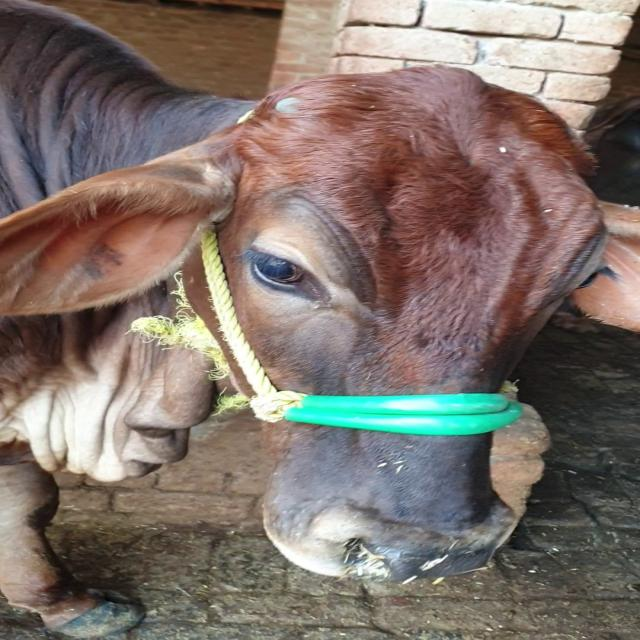cowFace: (186, 71, 614, 591)
